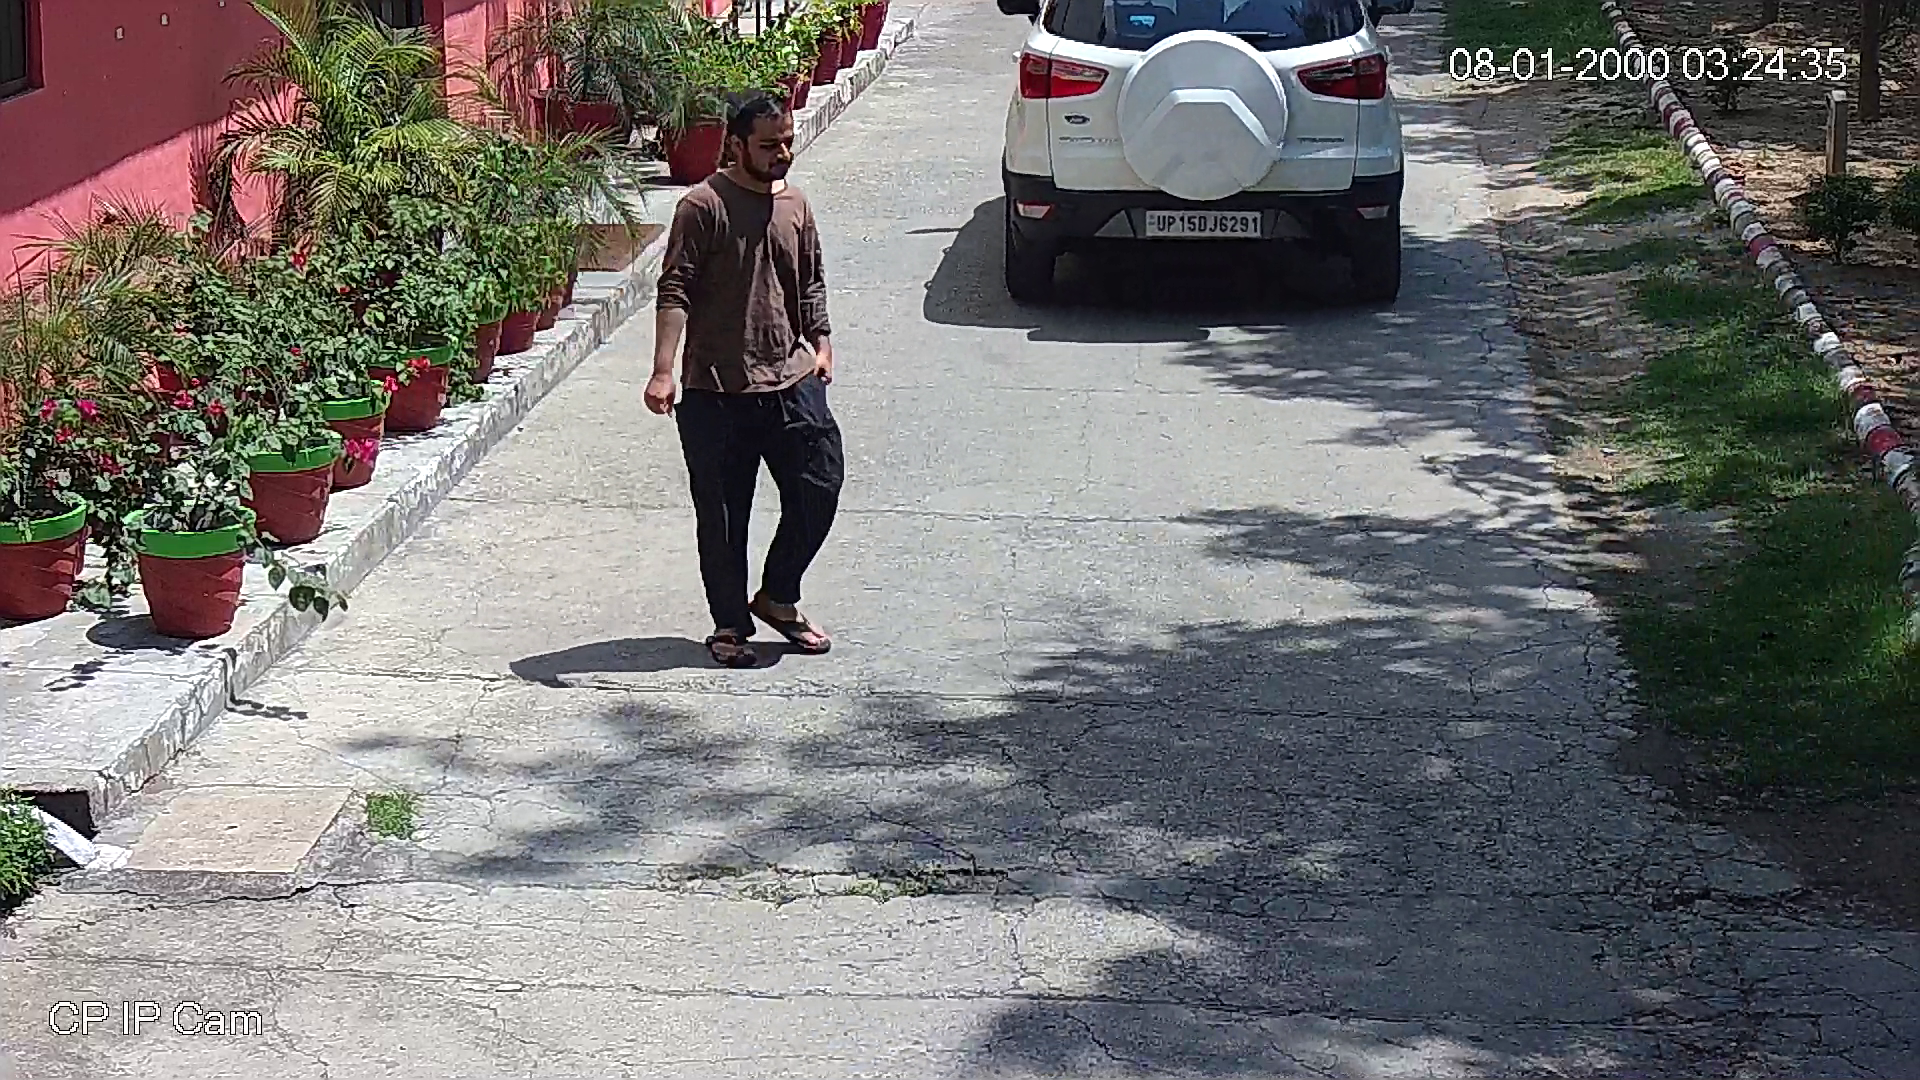plate: (1142, 208, 1262, 243)
